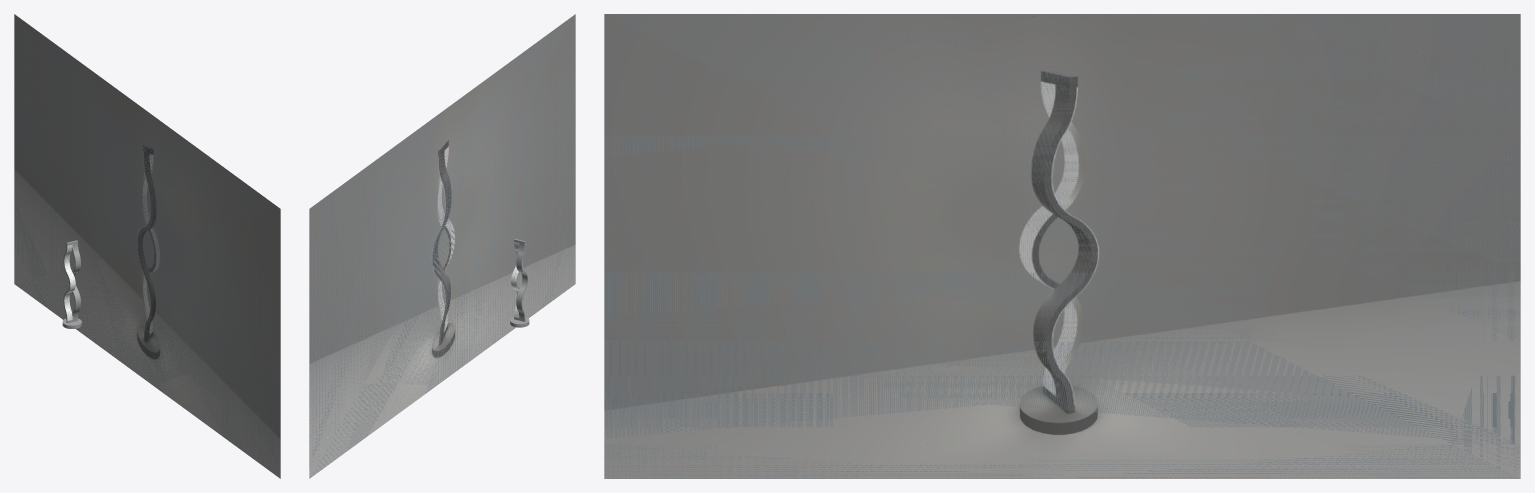
The picture shows the model from 3 angles, left to right: view 1: azimuth 30°, elevation 25°; view 2: azimuth 150°, elevation 25°; view 3: azimuth 270°, elevation 25°; orthographic projection. The views are drawn at different scales.
Parts seen in each view (by area): view 1: SketchUp, Shape_Bender_Component_1 (×2); view 2: SketchUp, Shape_Bender_Component_1; view 3: SketchUp.
Part boxes in pixels (x1,y1,x2,y2): SketchUp: (14,14,280,478); Shape_Bender_Component_1 (×2): (64,243,80,320); SketchUp: (309,14,575,478); Shape_Bender_Component_1: (516,243,528,319); SketchUp: (604,14,1520,478).
Bounding box in the file's own units: 15.91 × 86.61 × 48.49.
4 materials, 1 textured.
